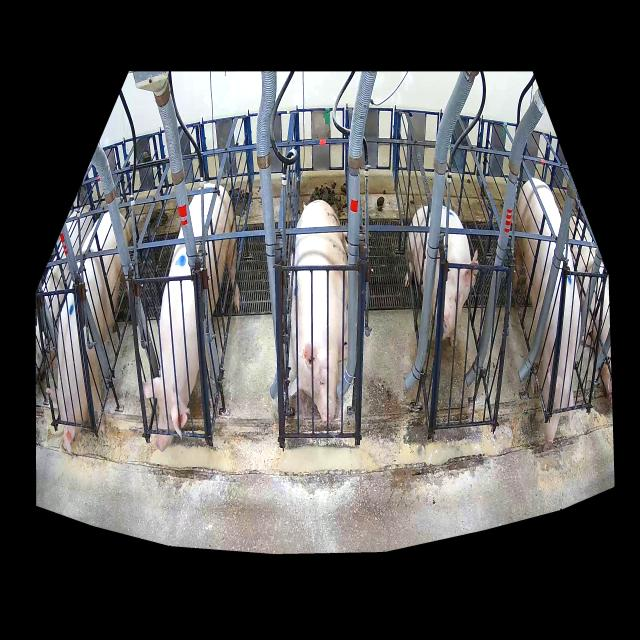pig: (143, 184, 240, 452), (46, 211, 130, 453), (513, 178, 581, 445), (288, 199, 348, 427), (405, 205, 478, 347)
